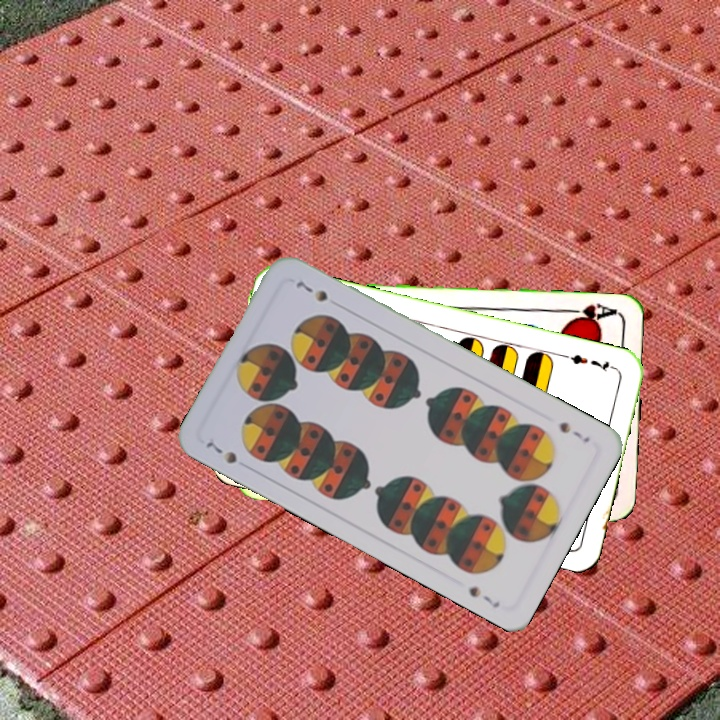E7: (560, 350, 618, 375)
HA: (561, 300, 620, 327)
S7: (201, 433, 240, 467), (555, 417, 593, 445)
